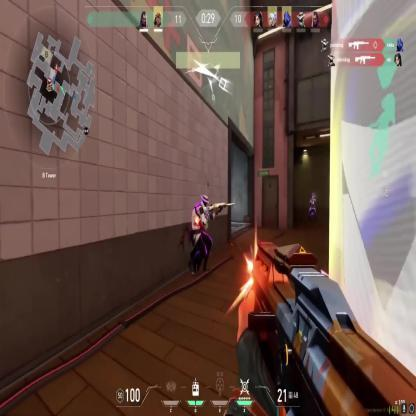enemy: (190, 194, 213, 276), (308, 192, 316, 219)
enemy_head: (201, 194, 209, 209), (311, 192, 314, 200)
